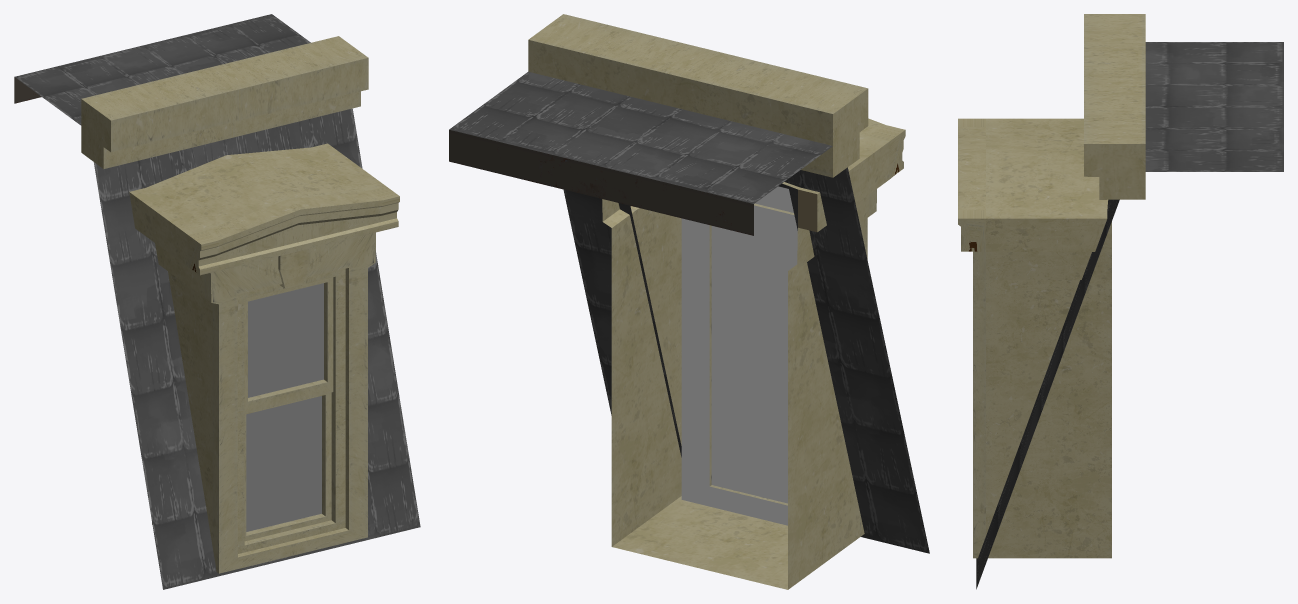
Rendered from Roof_SlateCornice_Window_1.gltf.
3 renders of one model, left to right at view 1: azimuth 30°, elevation 25°; view 2: azimuth 150°, elevation 25°; view 3: azimuth 270°, elevation 25°, orthographic. The views are drawn at different scales.
Parts seen in each view (by area): view 1: Roof_SlateCornice_Window_1; view 2: Roof_SlateCornice_Window_1; view 3: Roof_SlateCornice_Window_1.
Part boxes in pixels (x1,y1,x2,y2): Roof_SlateCornice_Window_1: (14, 14, 420, 589); Roof_SlateCornice_Window_1: (449, 14, 929, 589); Roof_SlateCornice_Window_1: (958, 14, 1283, 589).
Bounding box in the file's own units: 2 × 3.2 × 2.12.
Materials: 5 (3 with a texture image).
